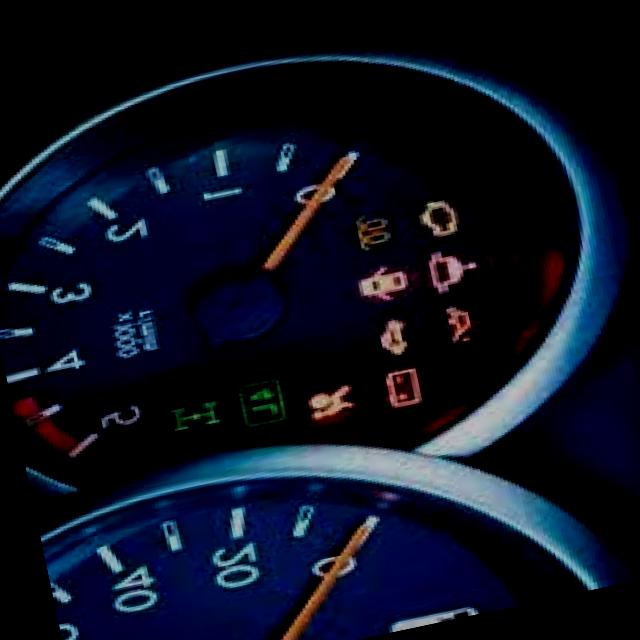kontrolka: (302, 377, 364, 432), (373, 360, 426, 416), (432, 294, 483, 352), (343, 204, 396, 256), (412, 193, 465, 244)
